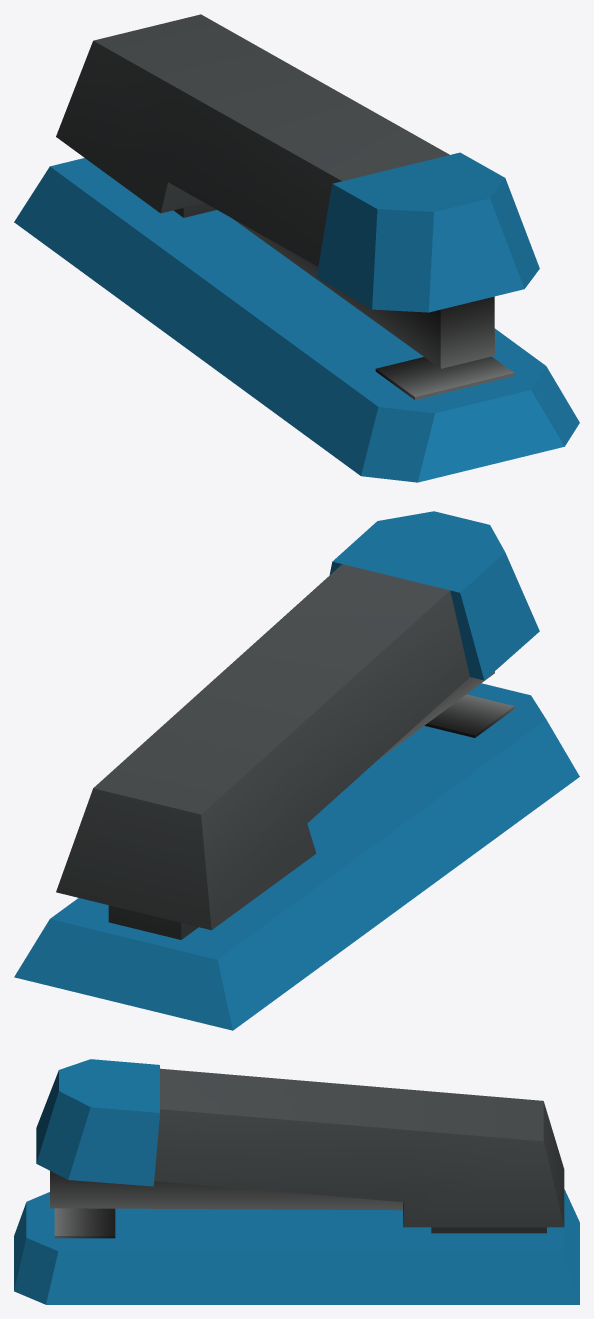
The model's file is Stapler.fbx.
3 views of the same model, one above another, from view 1: azimuth 30°, elevation 25°; view 2: azimuth 150°, elevation 25°; view 3: azimuth 270°, elevation 25° (orthographic). The views are drawn at different scales.
Visible parts, largest first — view 1: Stapler; view 2: Stapler; view 3: Stapler.
Part boxes in pixels (x1=…): Stapler: x1=14, y1=14, x2=579, y2=482; Stapler: x1=14, y1=511, x2=579, y2=1030; Stapler: x1=14, y1=1059, x2=579, y2=1304.
Size of the model in its own units: 5.82 by 6.04 by 16.91.
